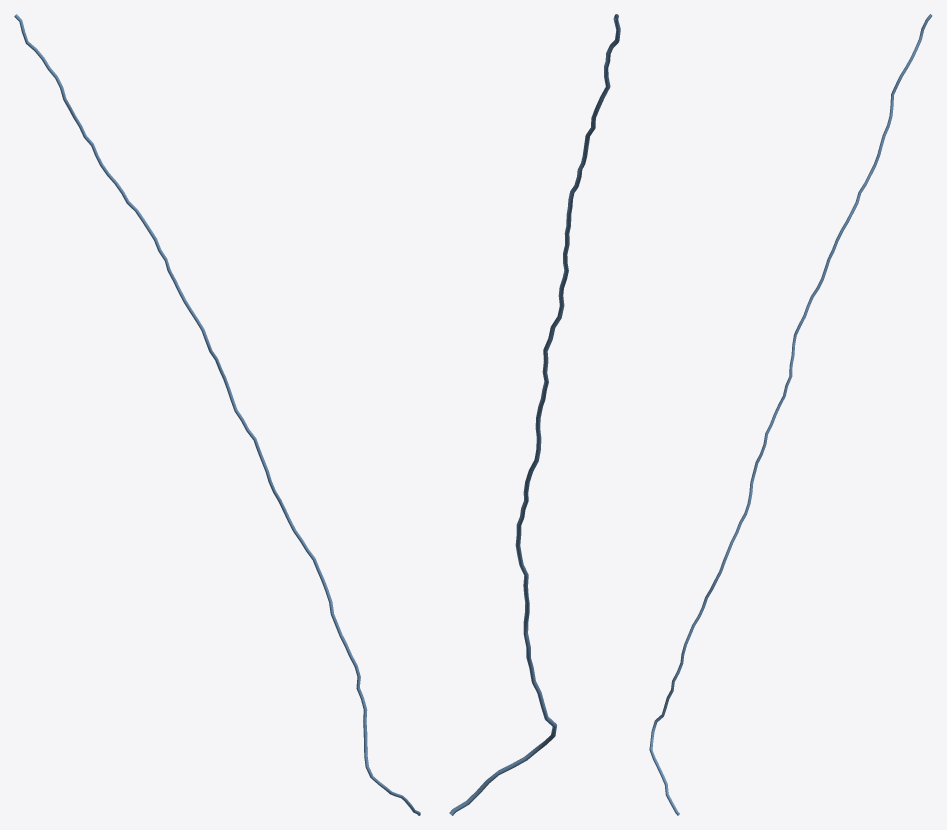
The model's file is sweep263.fbx.
3 views of the same model, side by side, from view 1: azimuth 30°, elevation 25°; view 2: azimuth 150°, elevation 25°; view 3: azimuth 270°, elevation 25° (orthographic). The views are drawn at different scales.
Visible parts, largest first — view 1: sweep263; view 2: sweep263; view 3: sweep263.
Boxes of the visible parts, left/top/right/bottom form: sweep263: left=14, top=14, right=420, bottom=815; sweep263: left=449, top=14, right=620, bottom=815; sweep263: left=649, top=14, right=932, bottom=815.
Size of the model in its own units: 1.76 by 4.82 by 1.8.
